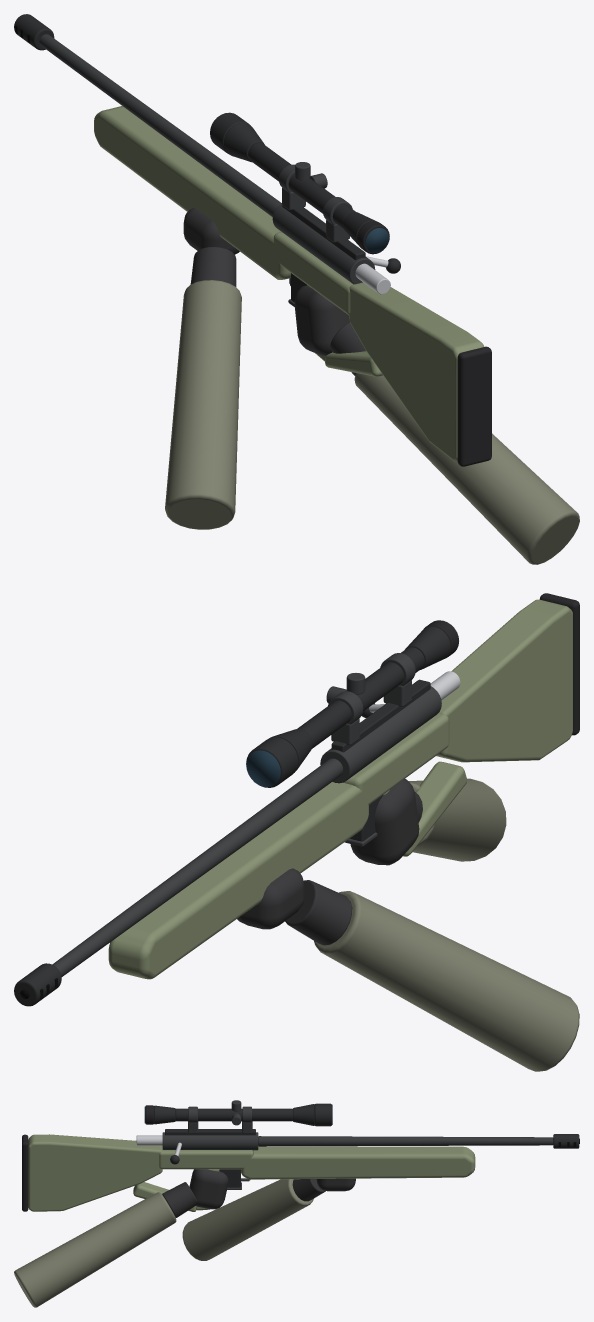
File: adler.glb
3 views of the same model, one above another, from view 1: azimuth 30°, elevation 25°; view 2: azimuth 150°, elevation 25°; view 3: azimuth 270°, elevation 25° (orthographic). The views are drawn at different scales.
Parts seen in each view (by area): view 1: SleeveL, Buttstock, SleeveR, Forend, Barrel, ButtPad, Bedding, HandR, Receiver, ScopeTube, WristL, HandL (+5 smaller); view 2: SleeveL, Buttstock, Forend, Barrel, SleeveR, Bedding, HandR, Receiver, WristL, ScopeTube, HandL, ThumbholeBar (+7 smaller); view 3: Buttstock, Forend, SleeveR, SleeveL, Barrel, Bedding, Receiver, ScopeTube, HandR, WristR, ScopeBase, WristL (+9 smaller).
Part boxes in pixels (<box>): SleeveL: <box>165,280,241,529</box>; Buttstock: <box>349,282,484,461</box>; SleeveR: <box>354,373,579,564</box>; Forend: <box>94,106,290,279</box>; Barrel: <box>39,34,281,217</box>; ButtPad: <box>457,346,491,466</box>; Bedding: <box>273,232,354,314</box>; HandR: <box>294,285,349,355</box>; Receiver: <box>272,204,375,284</box>; ScopeTube: <box>248,143,355,228</box>; WristL: <box>190,247,236,286</box>; HandL: <box>183,208,239,254</box>; SleeveL: <box>314,891,579,1071</box>; Buttstock: <box>436,599,572,762</box>; Forend: <box>108,782,368,979</box>; Barrel: <box>52,758,343,976</box>; SleeveR: <box>408,778,506,861</box>; Bedding: <box>343,713,449,805</box>; HandR: <box>350,779,419,865</box>; Receiver: <box>320,686,441,783</box>; WristL: <box>285,880,352,945</box>; ScopeTube: <box>297,647,424,748</box>; HandL: <box>237,868,304,929</box>; ThumbholeBar: <box>403,761,467,856</box>; Buttstock: <box>28,1134,162,1211</box>; Forend: <box>241,1146,475,1179</box>; SleeveR: <box>14,1192,176,1307</box>; SleeveL: <box>182,1179,313,1260</box>; Barrel: <box>258,1136,553,1146</box>; Bedding: <box>159,1145,253,1169</box>; Receiver: <box>162,1132,258,1150</box>; ScopeTube: <box>175,1108,292,1121</box>; HandR: <box>189,1169,228,1209</box>; WristR: <box>162,1182,197,1217</box>; ScopeBase: <box>165,1129,255,1135</box>; WristL: <box>292,1179,325,1201</box>.
Size of the model in its own units: 0.4383 by 0.496 by 1.3.
